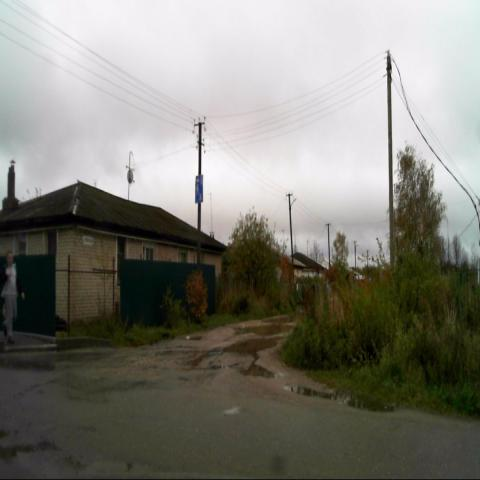5_21: (195, 175, 203, 204)
